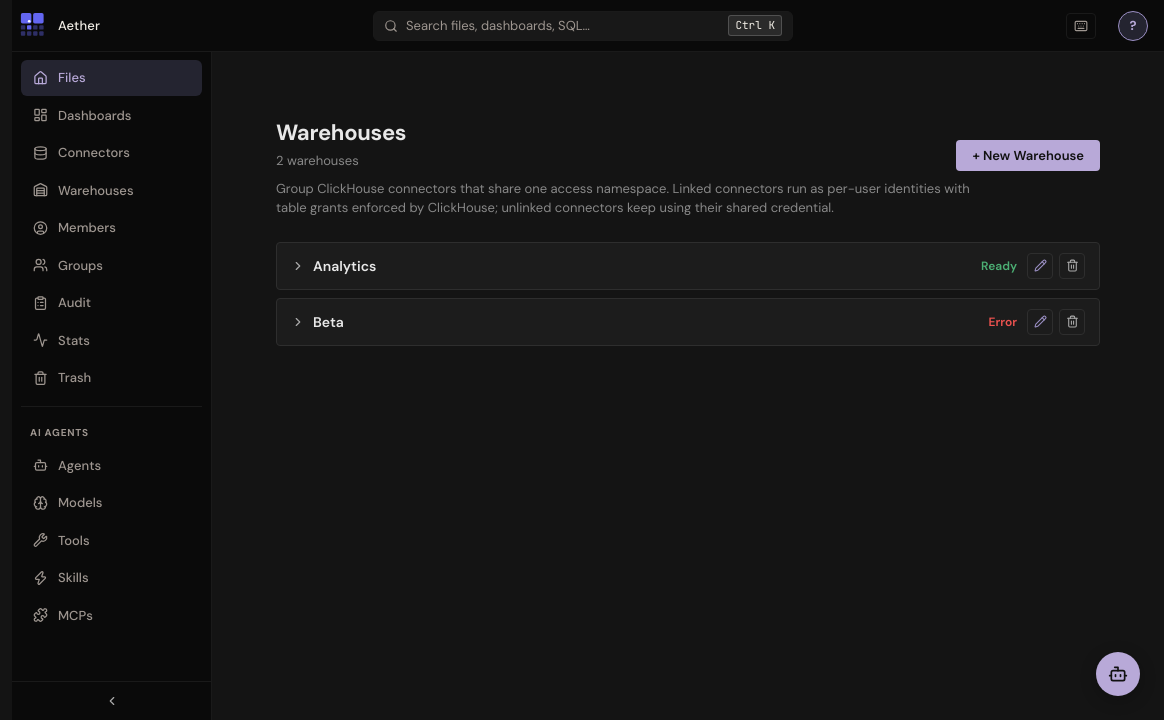
Test: WarehouseSettingsPage › expands a warehouse to show provisioner, connectors, and grants
The width and height of the screenshot is (1164, 720).
Click the button "Analytics": (345, 266) [291,256,971,274]
(page scrolled)
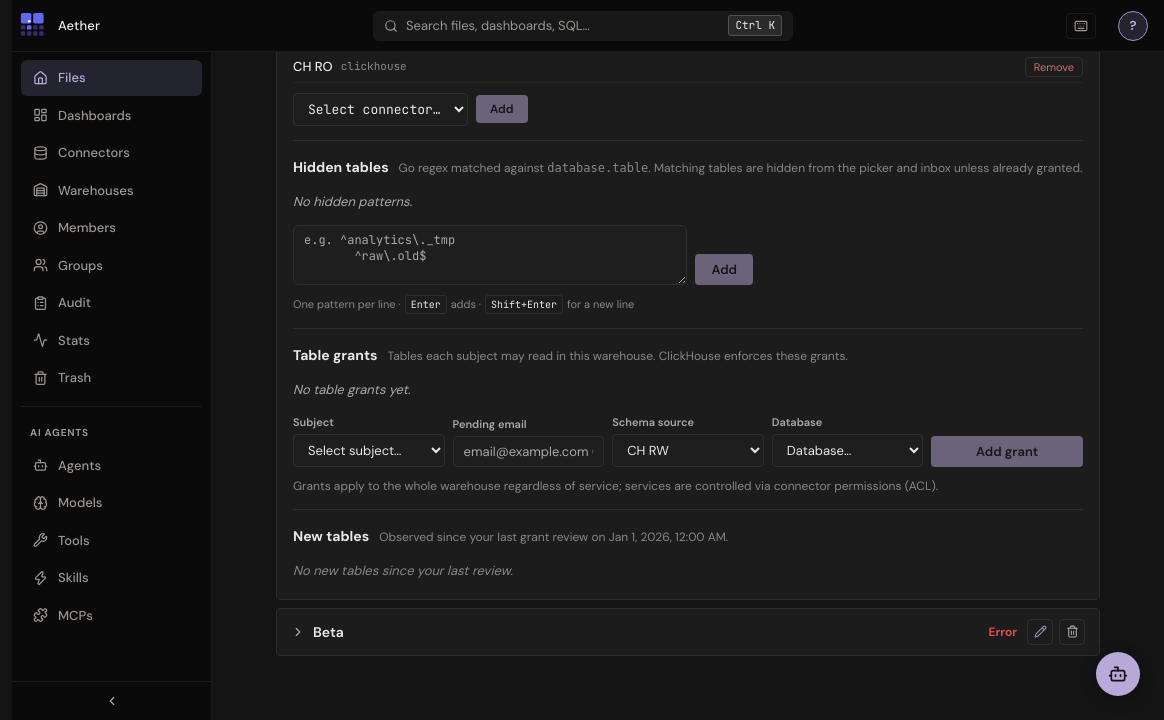
Check: the heading "Table grants" is shown, box [293,345,377,366]
Check: the text "No table grants yet." is shown, box [293,381,410,398]
Check: the heading "New tables" is shown, box [293,526,369,547]
